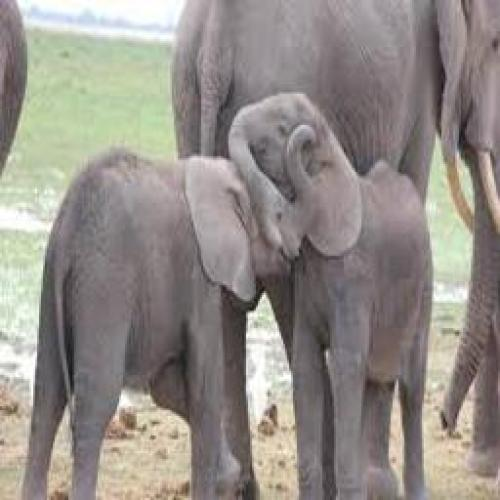african_elephant-endangered: (21, 142, 318, 500), (225, 98, 438, 499), (171, 0, 441, 225), (441, 0, 500, 499)
